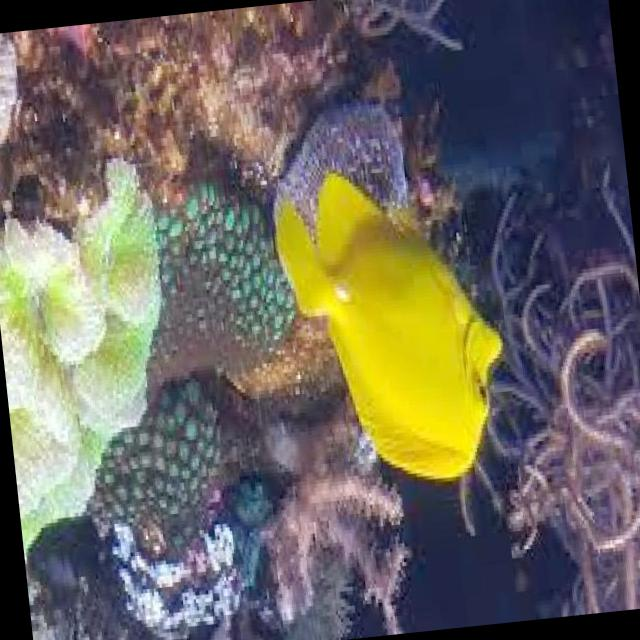YellowTang: (238, 92, 530, 522)
